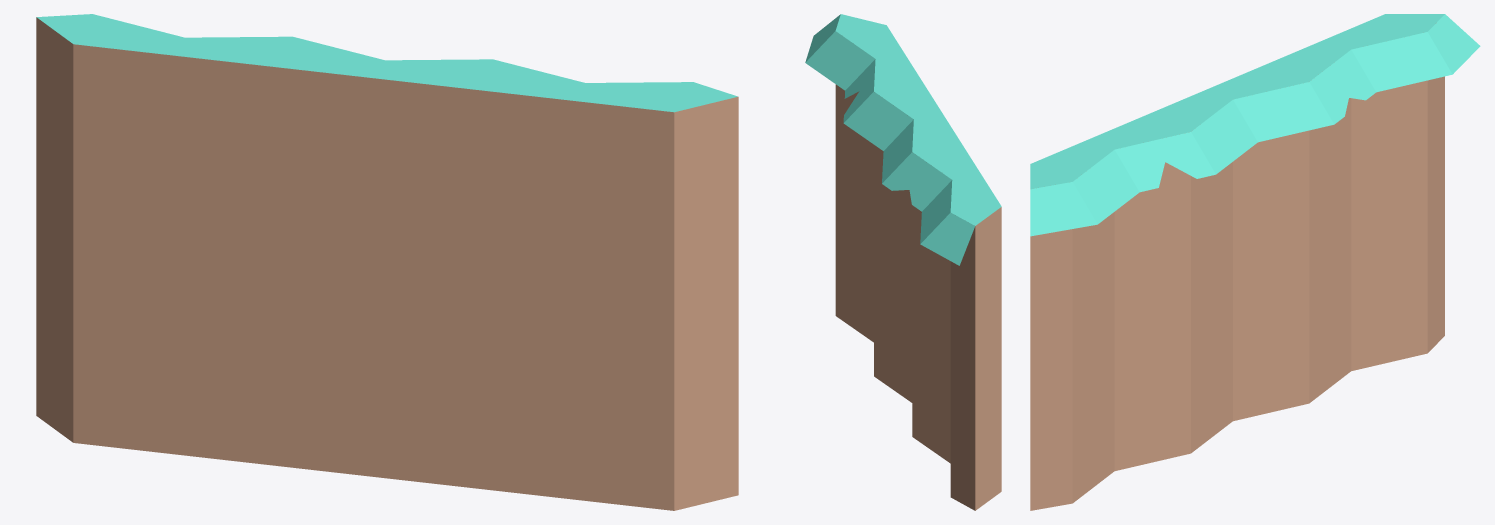
The model's file is cliff_topDiagonal_rock.glb.
3 views of the same model, side by side, from view 1: azimuth 30°, elevation 25°; view 2: azimuth 150°, elevation 25°; view 3: azimuth 270°, elevation 25° (orthographic). The views are drawn at different scales.
Parts seen in each view (by area): view 1: cliff_topDiagonal_rock; view 2: cliff_topDiagonal_rock; view 3: cliff_topDiagonal_rock.
Part boxes in pixels (box(x1,y1,x2,y2)): cliff_topDiagonal_rock: box(36, 14, 738, 510); cliff_topDiagonal_rock: box(805, 14, 1001, 510); cliff_topDiagonal_rock: box(1030, 14, 1480, 510).
Size of the model in its own units: 1.27 by 1 by 1.27.
